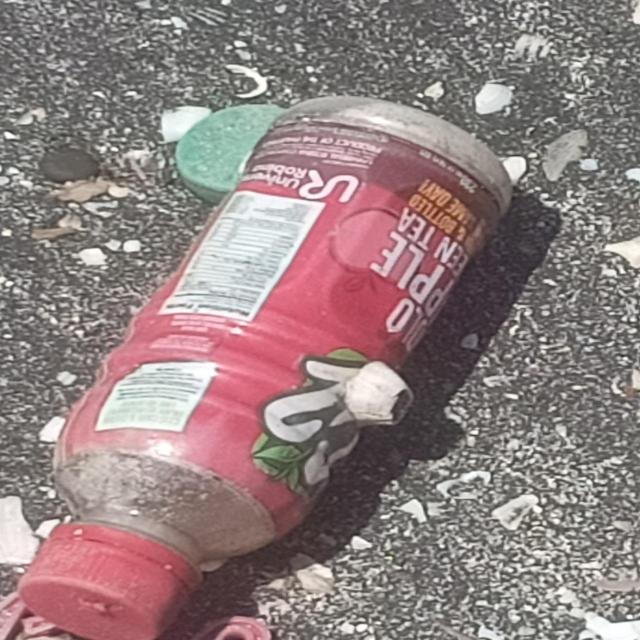plastic_waste: (14, 94, 520, 640)
